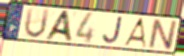4: (74, 11, 96, 45)
A: (42, 10, 74, 44), (121, 17, 147, 49)
J: (101, 16, 124, 45)
N: (147, 18, 178, 52)
U: (23, 7, 52, 40)
